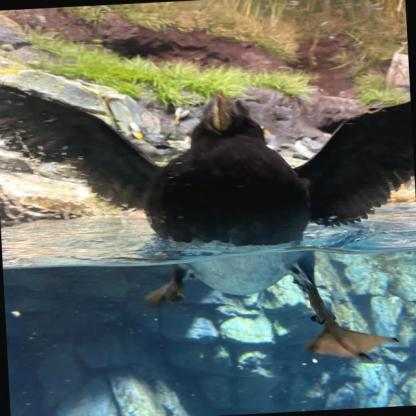puffin: (0, 59, 415, 377), (126, 116, 172, 158), (166, 101, 204, 141)
